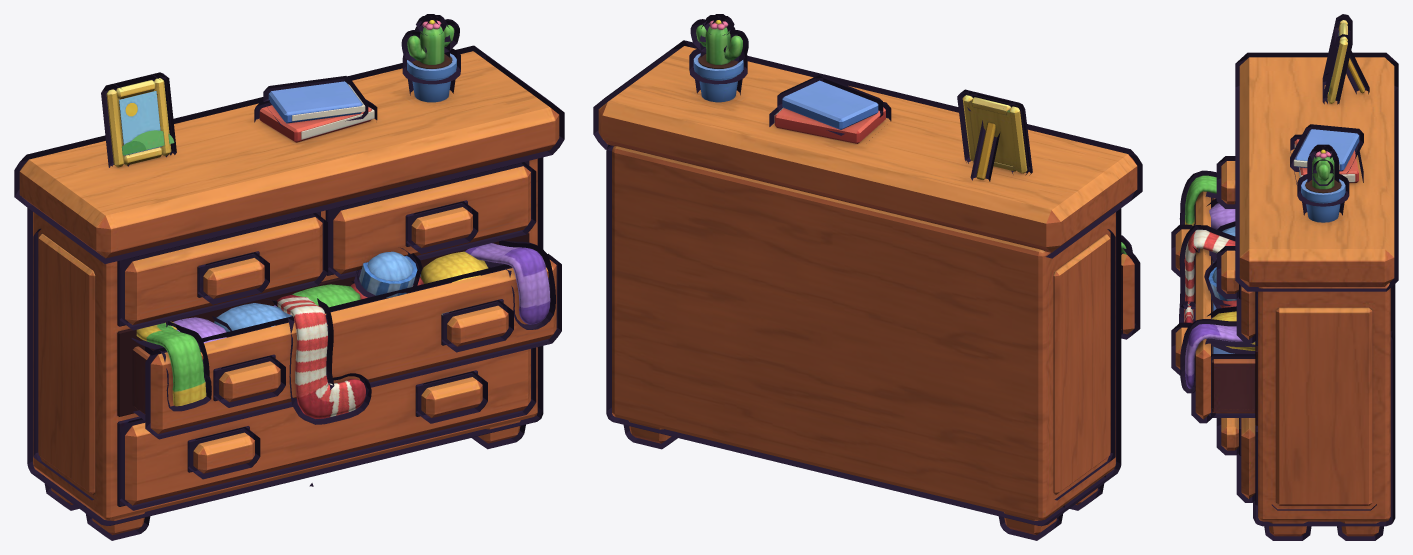
The model's file is Dresser.glb.
3 views of the same model, side by side, from view 1: azimuth 30°, elevation 25°; view 2: azimuth 150°, elevation 25°; view 3: azimuth 270°, elevation 25° (orthographic). The views are drawn at different scales.
Parts seen in each view (by area): view 1: Dresser, Dresser_Outline; view 2: Dresser, Dresser_Outline; view 3: Dresser, Dresser_Outline.
Boxes of the visible parts, <box> form: Dresser: <box>19,20,559,535</box>; Dresser_Outline: <box>14,14,564,540</box>; Dresser: <box>598,20,1137,535</box>; Dresser_Outline: <box>593,14,1142,540</box>; Dresser: <box>1175,20,1394,536</box>; Dresser_Outline: <box>1171,14,1398,540</box>.
Bounding box in the file's own units: 13.25 × 11.23 × 6.26.
Materials: 2 (2 with a texture image).
